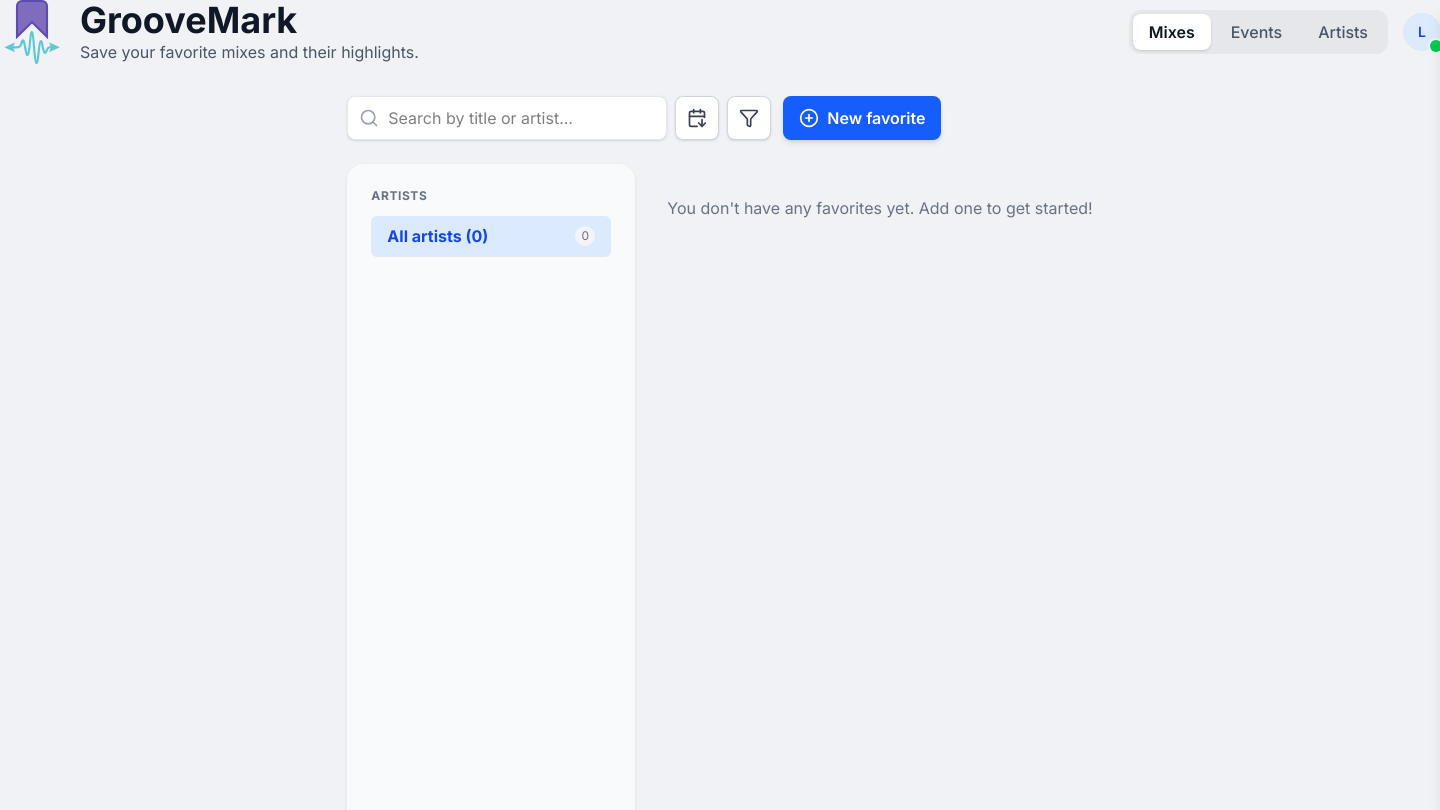
Test case: MixesView › opens the add modal from the add control and closes it
Expected: the text "Add a favorite" is not shown
Click the button "New favorite": click(862, 118) [783,96,941,140]
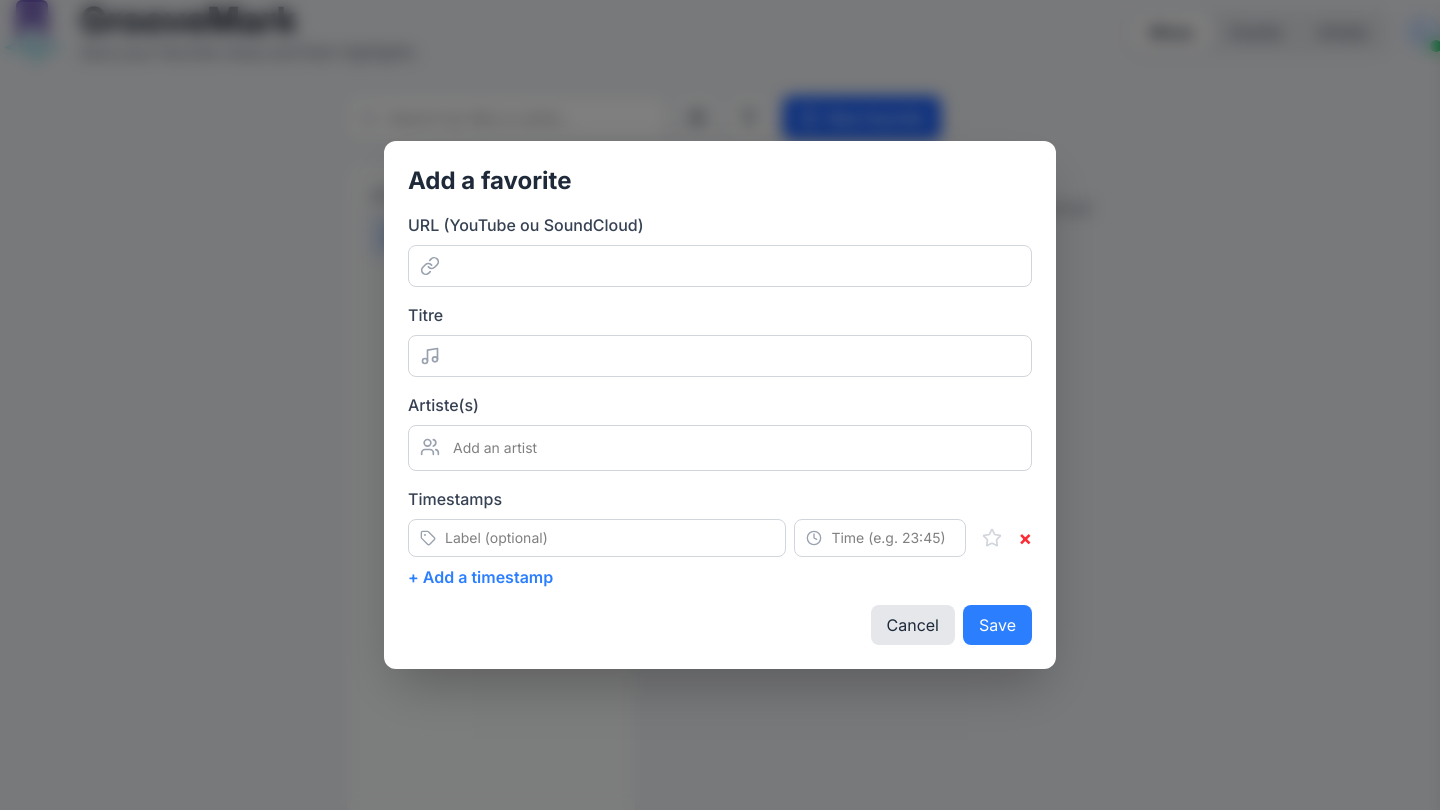
Now the text "Add a favorite" is shown, box [408,166,572,195]
Click the button with id "cancel-btn": click(913, 625) [870,605,955,645]
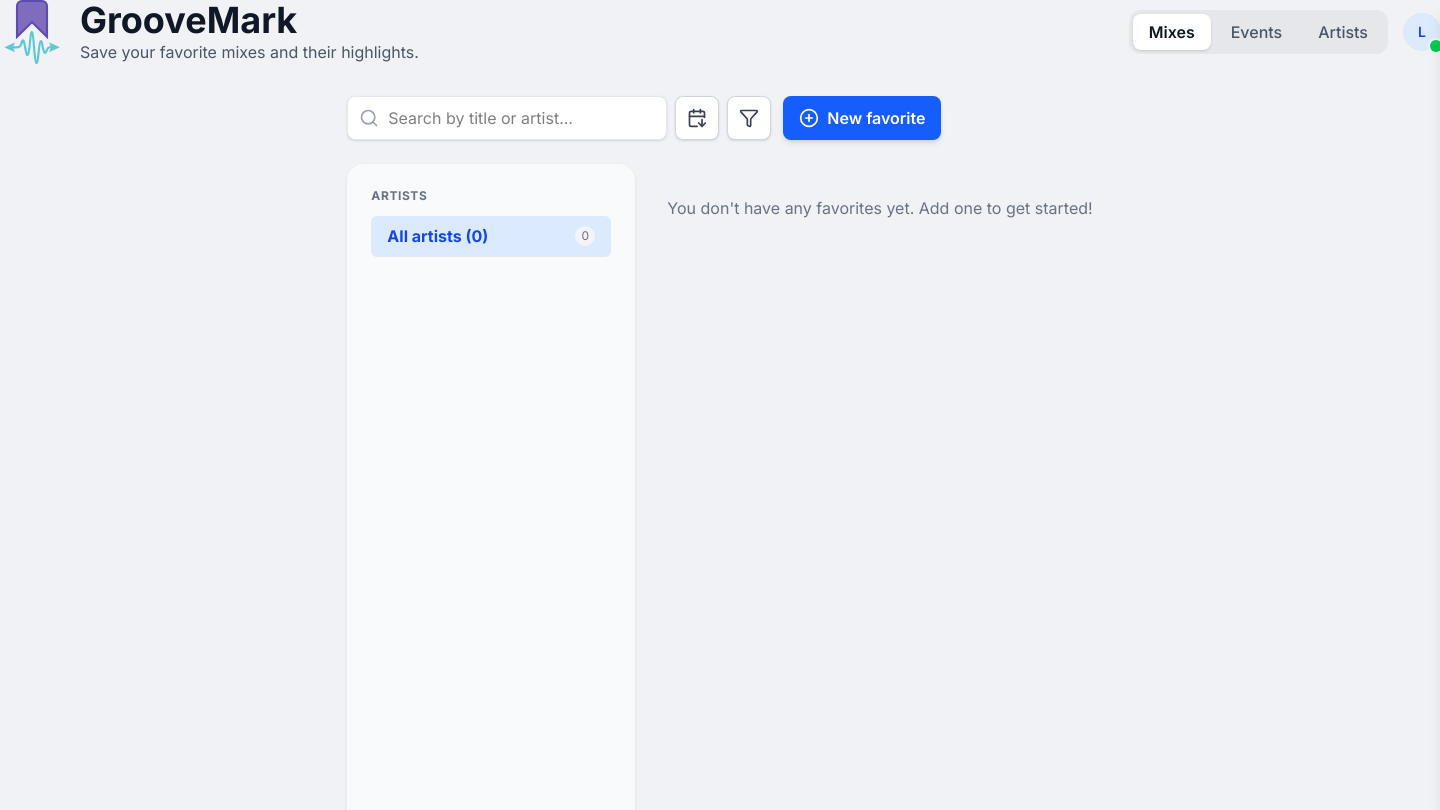
Now the text "Add a favorite" is gone
